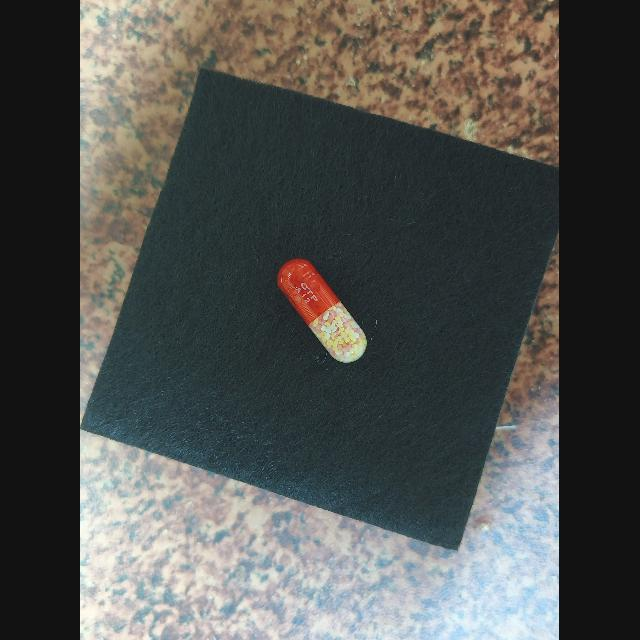Intact Capsule: (278, 258, 367, 363)
